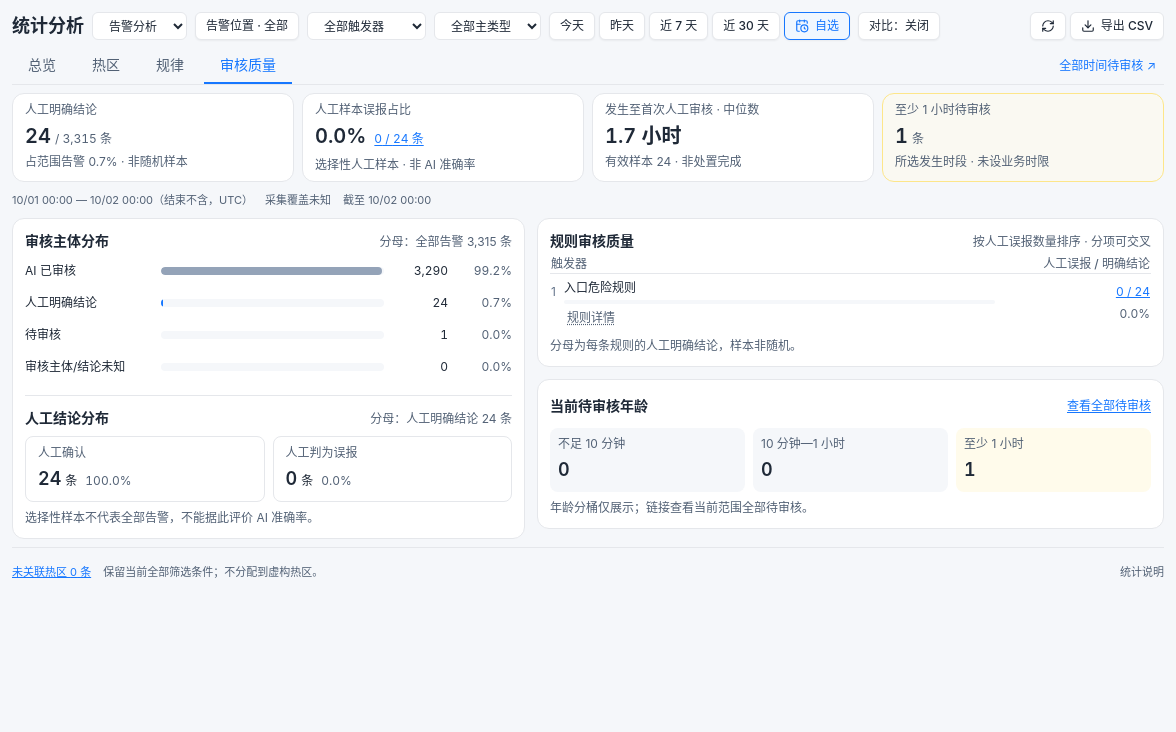
it: copies the complete ID on HTTP without Clipboard API, removes the temporary input and restores focus
The image size is (1176, 732).
What coordinates should you click on to do the following:
click the heading "规则详情"
I would click on:
 (591, 318)
Its box is [567,306,615,330].
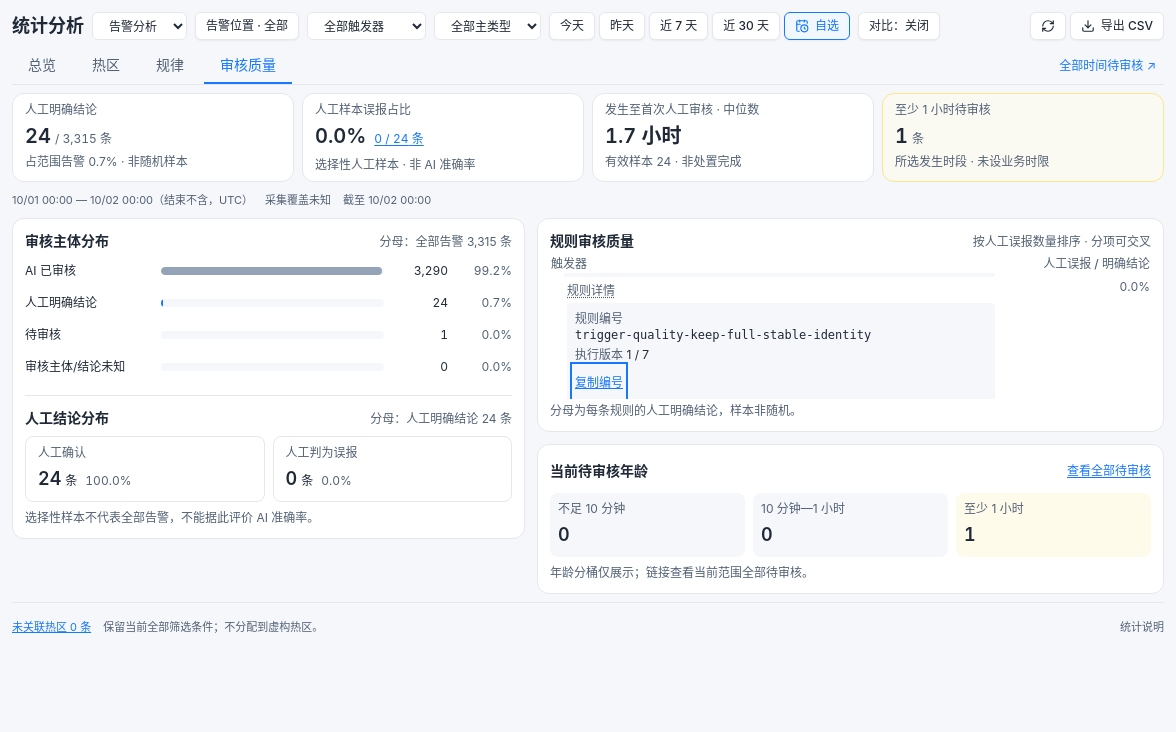
What coordinates should you click on to do the following:
click the button with aria-label "复制规则编号"
I would click on:
 (599, 383)
Its box is [575,367,623,399].
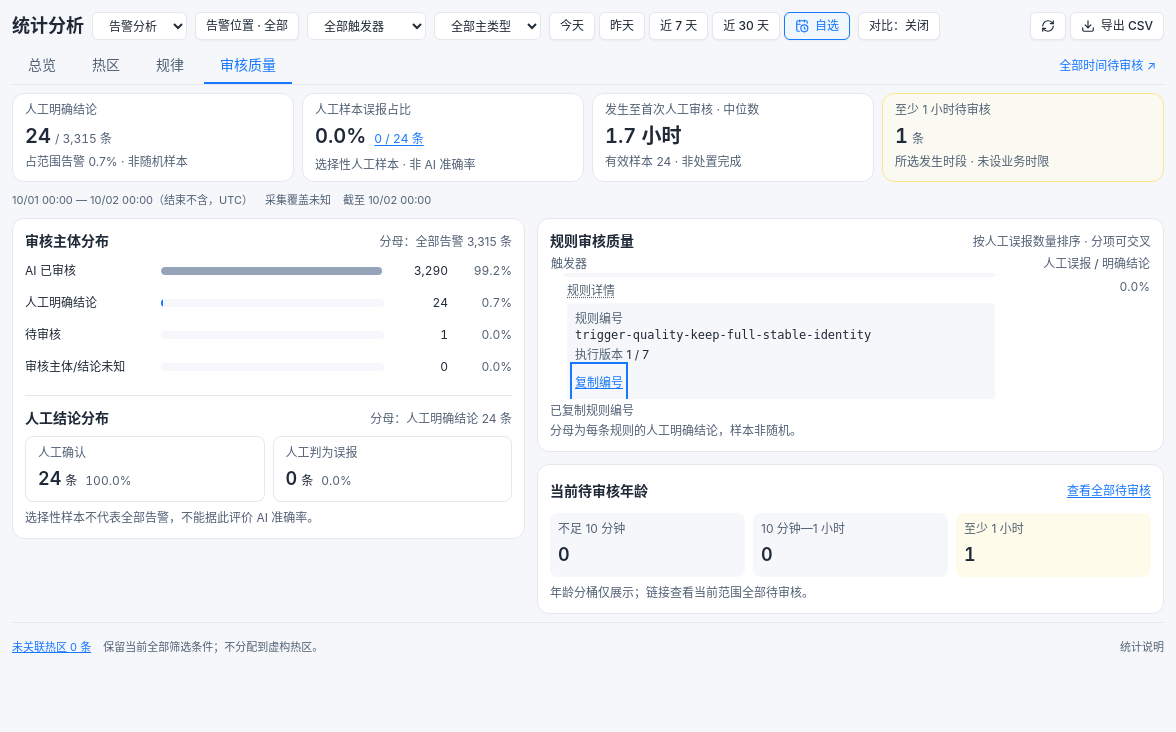
expect the message reads "已复制规则编号": met, box [550,403,634,418]
